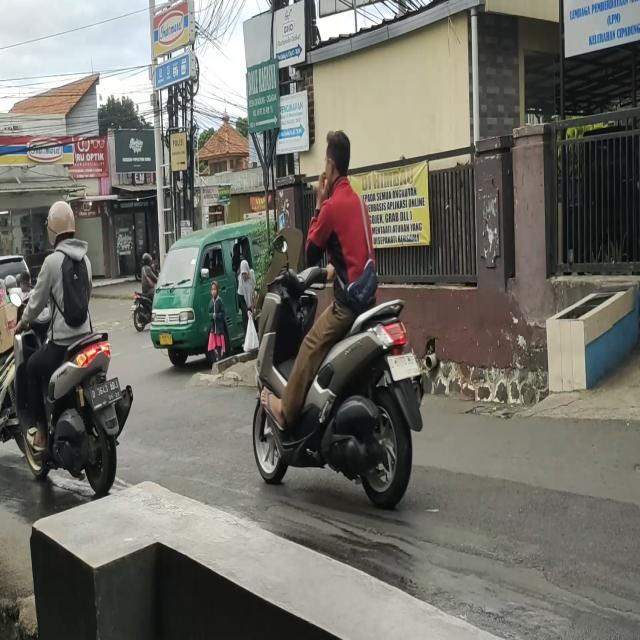helmet: (46, 203, 76, 247)
no-helmet: (322, 128, 352, 183)
